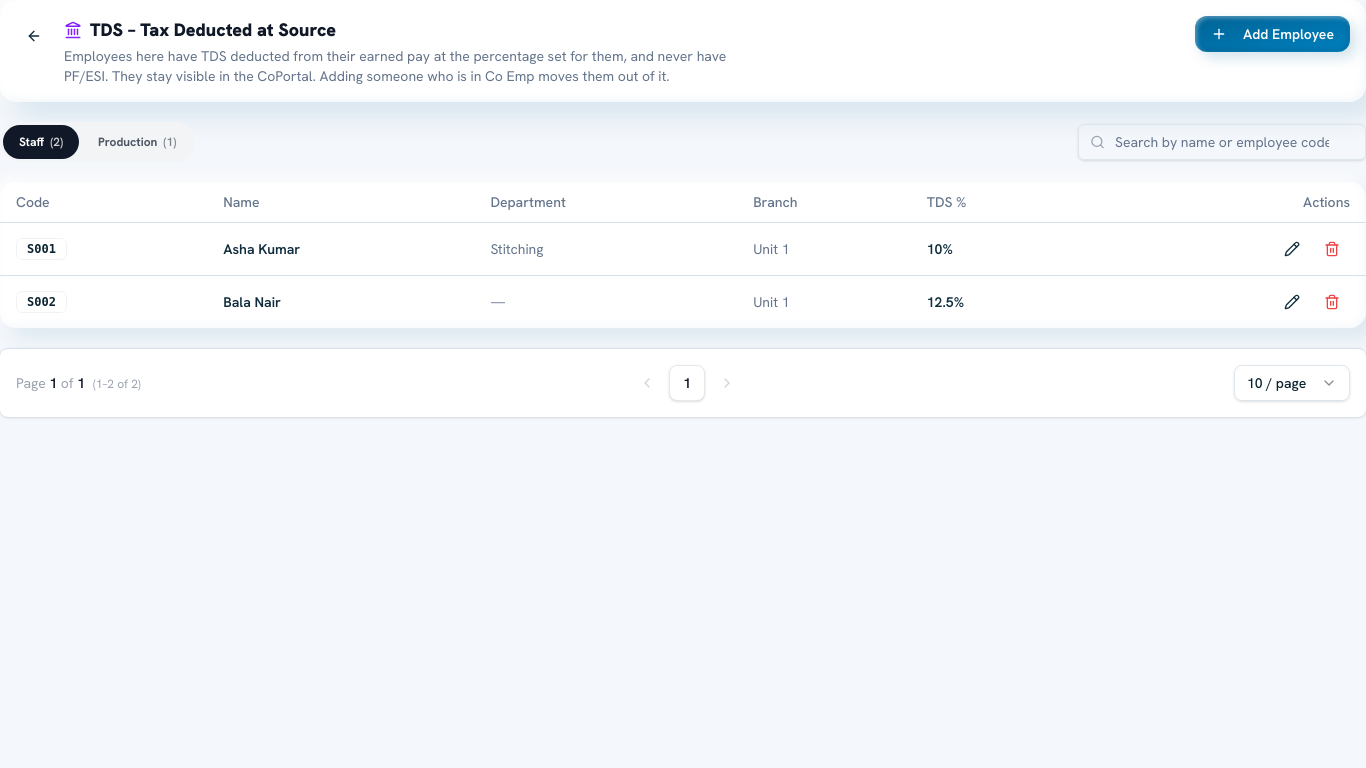
Test: Add Employee › opens a dialog asking for the employee code and the percentage
Click the button "Add Employee" at [1272, 34], box [1195,16,1350,52]
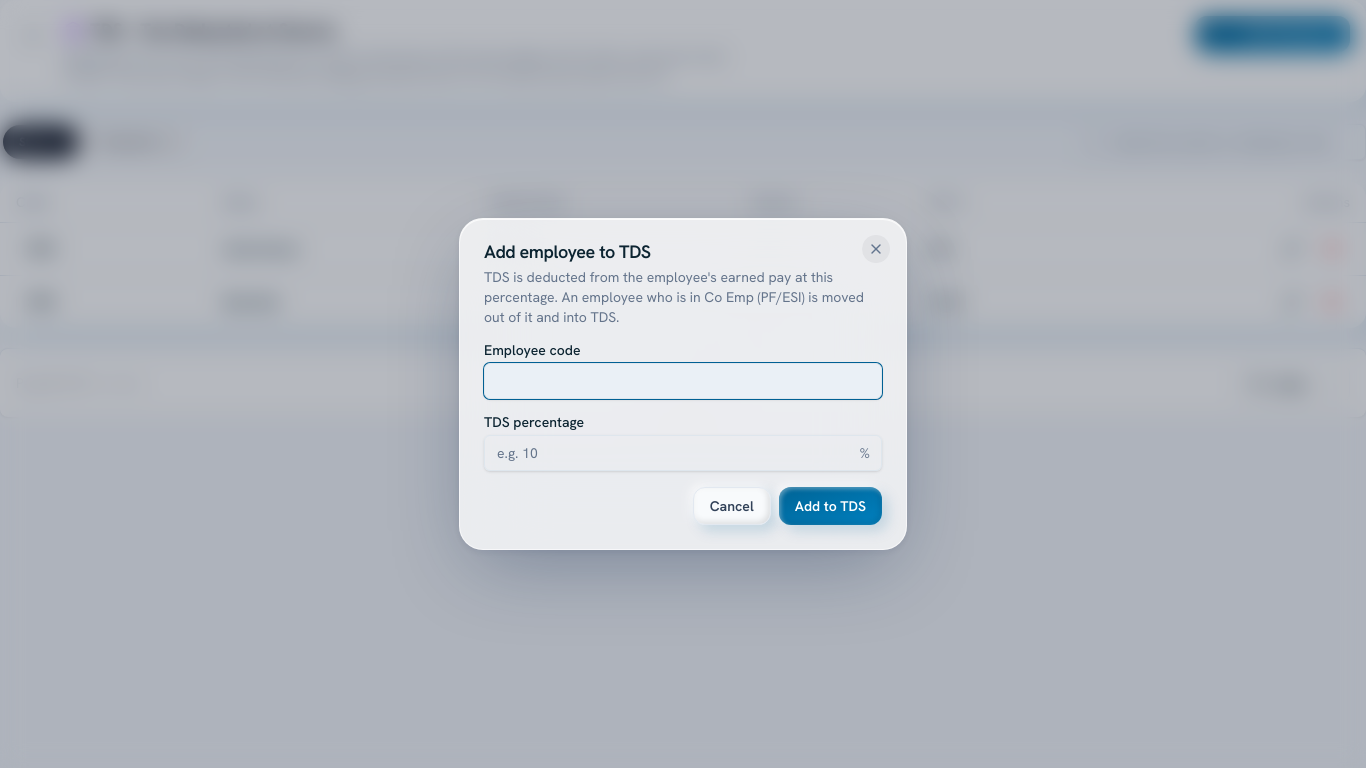
Check: the text "Add employee to TDS" is shown, box [484,240,651,263]
Check: the text "moved out of it and into TDS" is shown, box [484,268,864,326]
